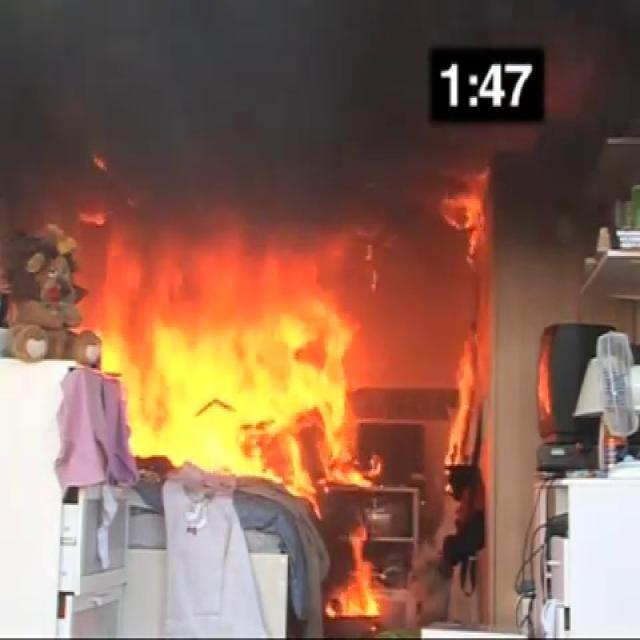Fire: (89, 208, 373, 494), (444, 306, 502, 476), (414, 186, 496, 261), (325, 526, 384, 624)
Smoke: (24, 4, 431, 170), (111, 52, 396, 194)
